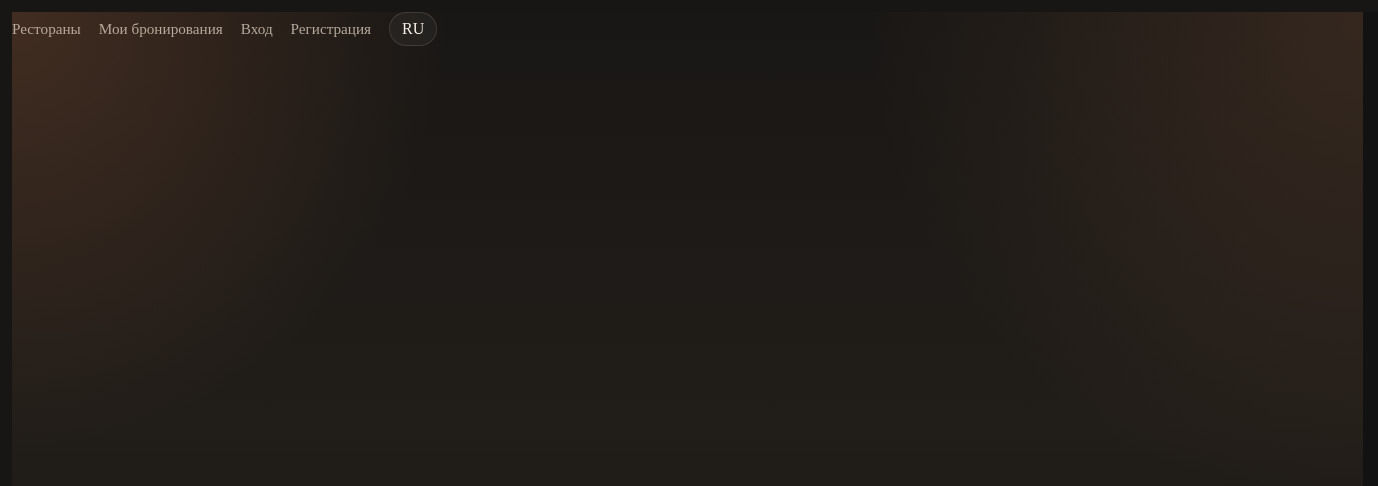
Test: SiteHeaderNav › switches navigation to english after click
Step 1. Click the button "RU" → (413, 29), box [389,12,437,46]
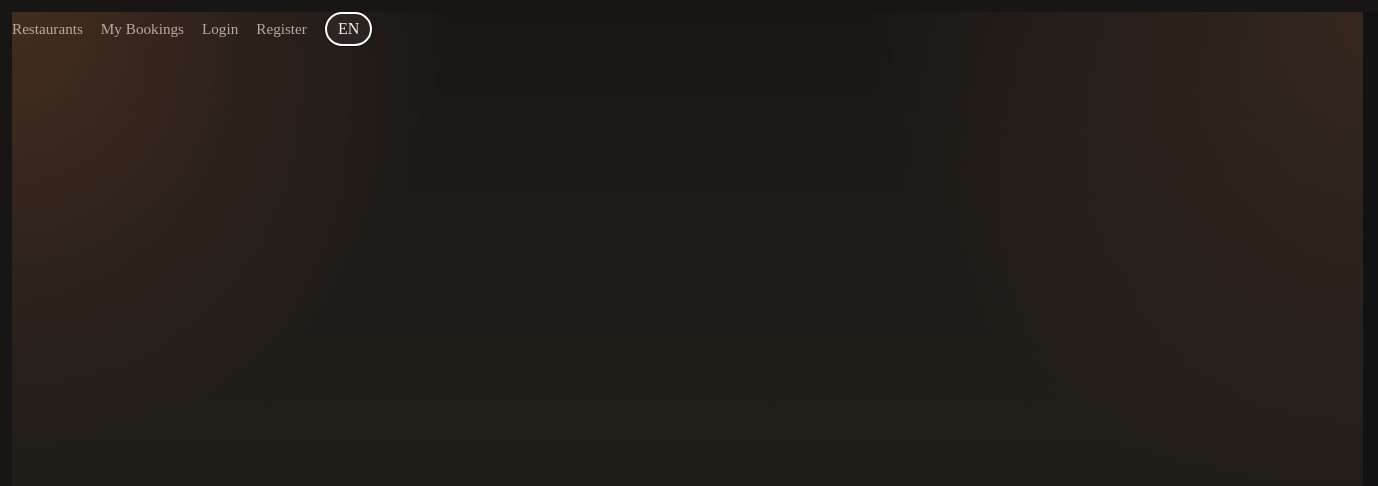
Expected: the link "Restaurants" is shown, [12,18,83,40]
Now the link "My Bookings" is shown, box [101,18,184,40]
Now the button "EN" is shown, box [325,12,372,46]
